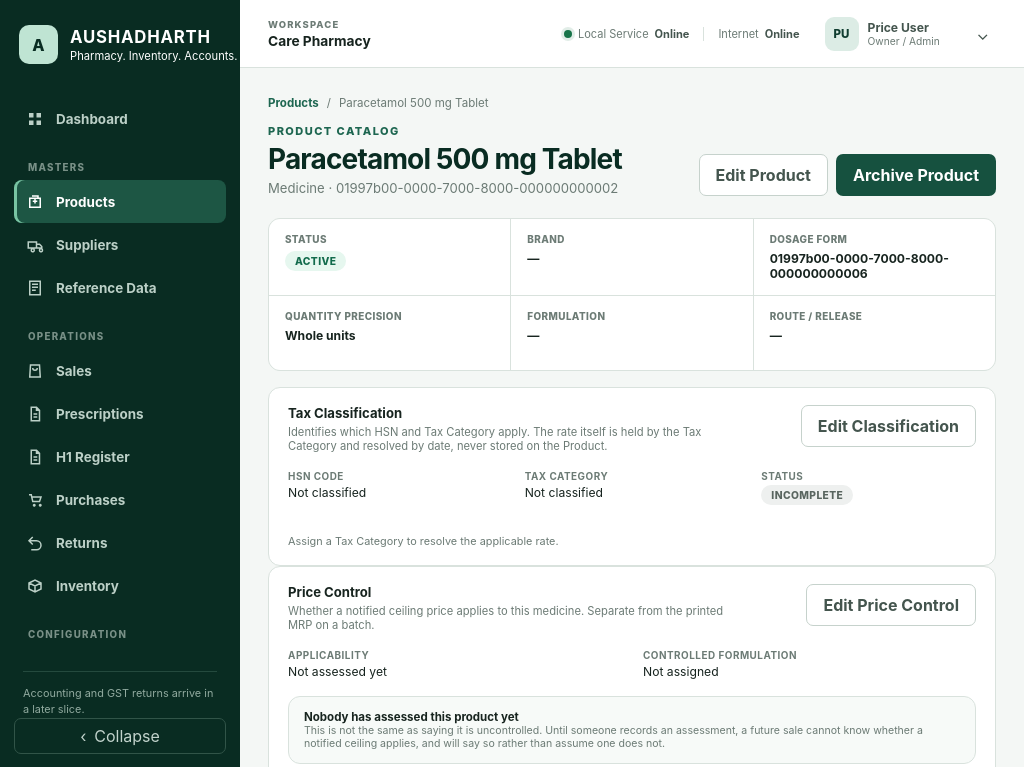
Test case: Product price control UI › assigns a formulation and shows the resolved ceiling with the date it belongs to
The image size is (1024, 767).
Click the button "Edit Price Control".
click(891, 605)  # box [806,584,976,626]
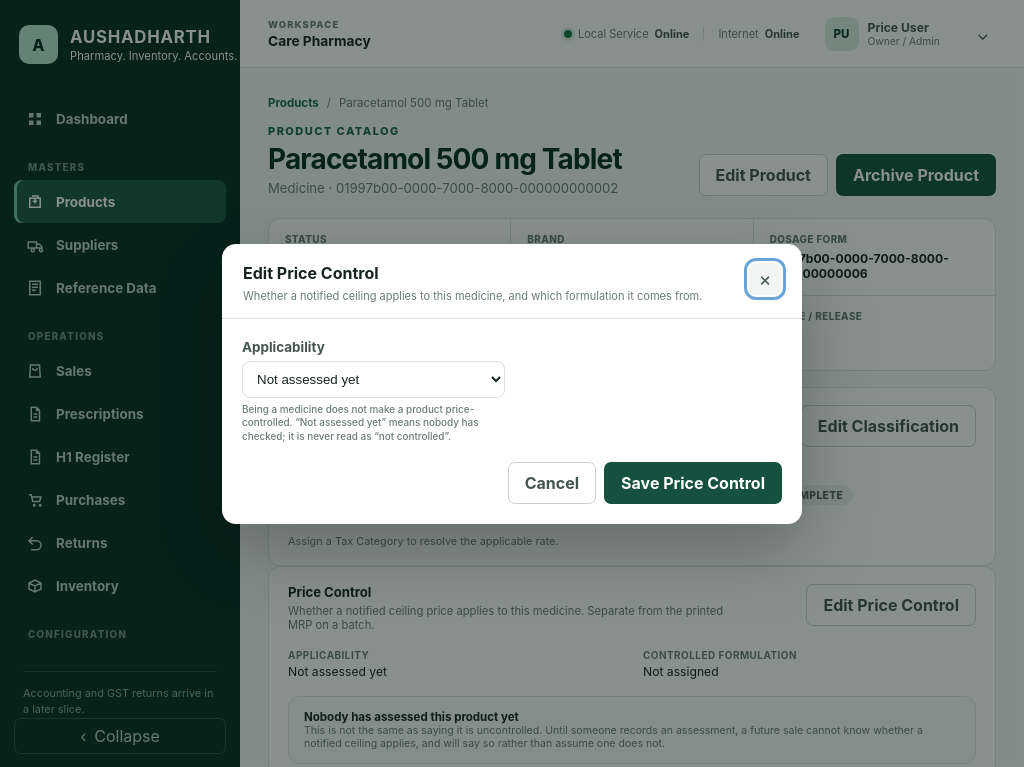
Select "Price-controlled" in the dropdown labelled "Applicability" at (373, 379), box [242,361,504,398]
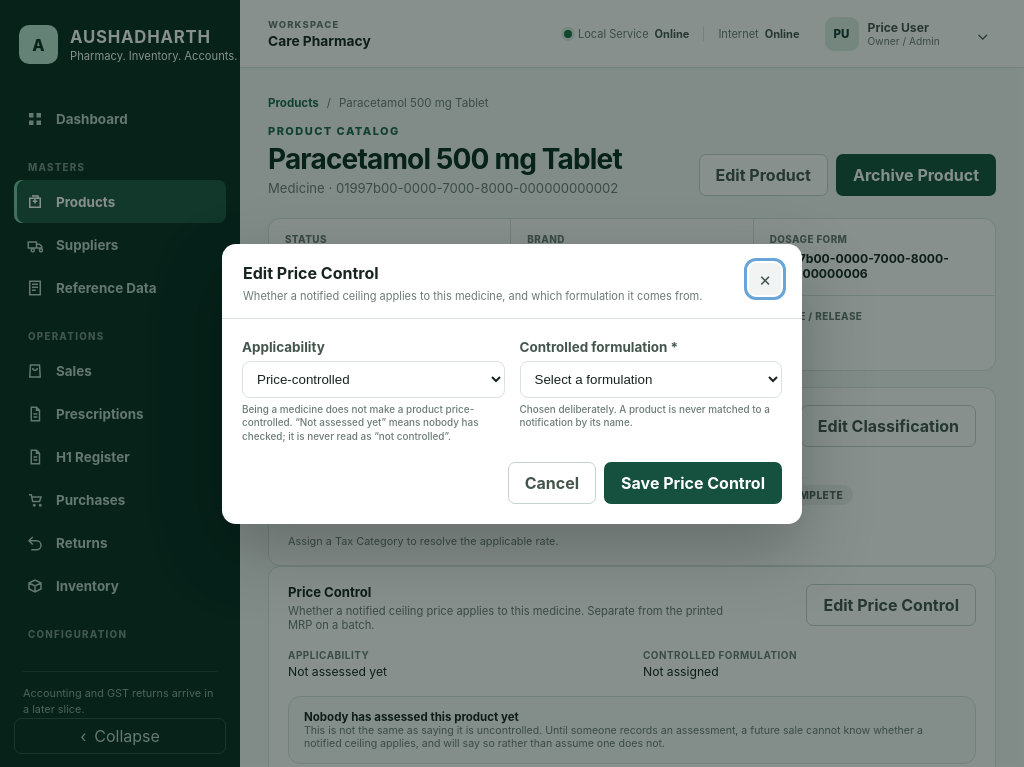
Select "PARA-500-TAB · Paracetamol 500 mg Tablet · 500 mg" in the dropdown labelled "Controlled formulation *" at (651, 379), box [520,361,782,398]
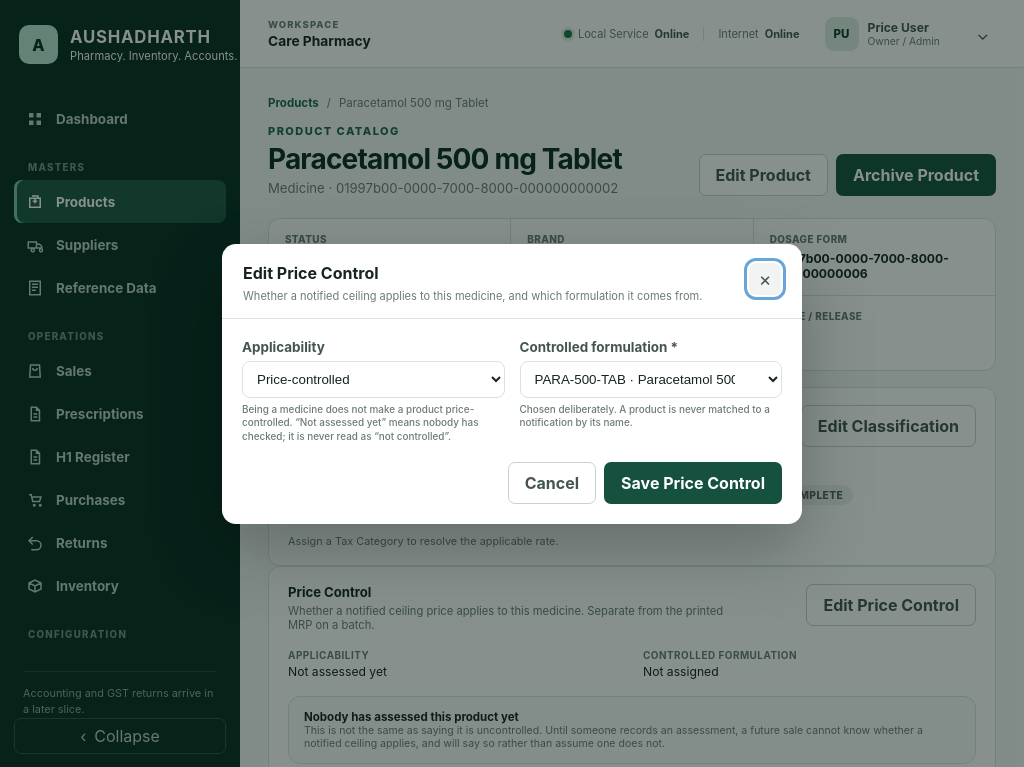
Click the button "Save Price Control".
click(693, 483)  # box [604,462,782,504]
(page scrolled)
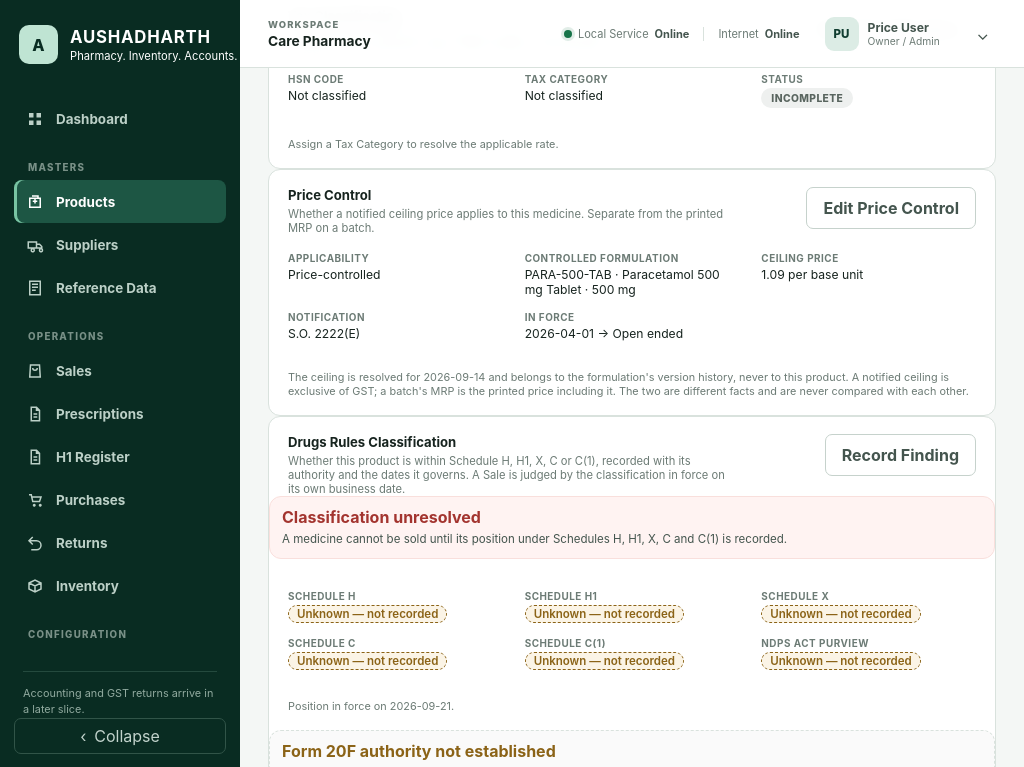
Check: the text "Price-controlled" is shown, box [288,267,380,282]
Check: the text "1.09 per base unit" is shown, box [761,267,863,282]
Check: the text "S.O. 2222(E)" is shown, box [288,326,360,341]
